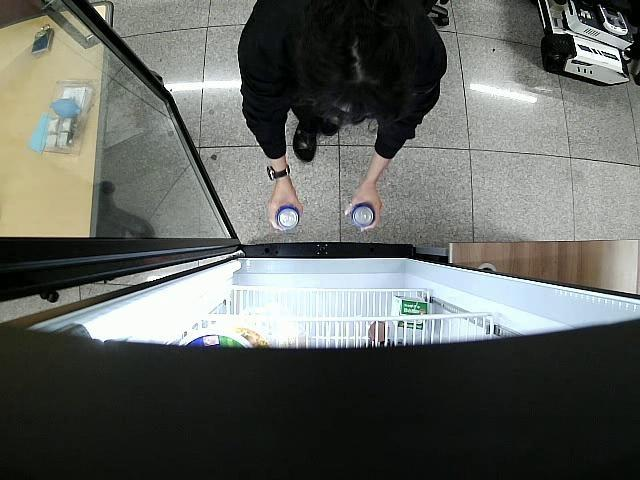13_pocariSweat: (351, 202, 376, 230), (276, 206, 300, 230)
